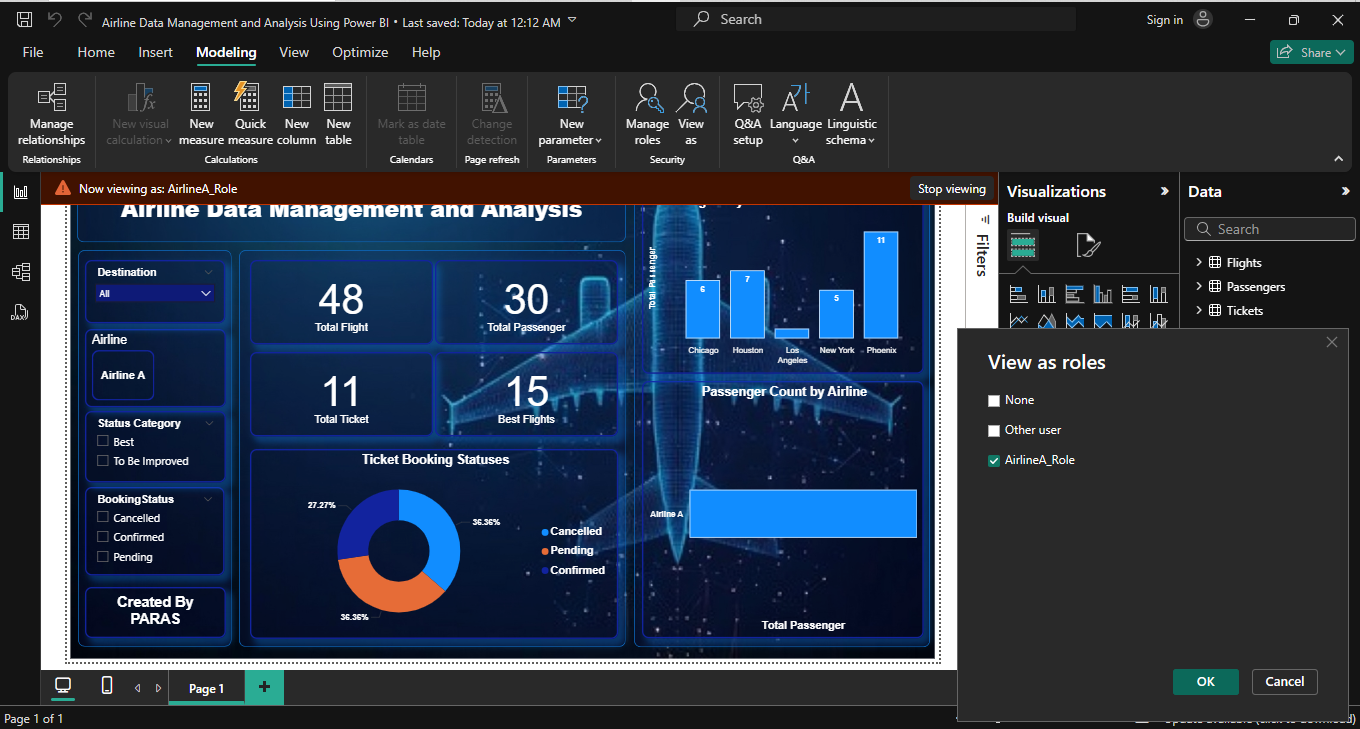

What the dashboard file says about the page in this screenshot:
{"tool":"powerbi","page":{"name":"Page 1","canvas":[1280,720],"ordinal":0},"visuals":[{"type":"image","box":[0,0,1280,720],"z":0},{"type":"shape","box":[15.7,114.3,225.7,582.9],"z":1000},{"type":"shape","box":[15,13.3,806.7,90],"z":2000},{"type":"shape","box":[253.3,115,568.3,583.3],"z":3000},{"type":"shape","box":[833.3,13.3,435,685],"z":4000},{"type":"textbox","box":[26.7,26.7,783.3,61.7],"z":5000},{"type":"clusteredBarChart","title":"Passenger Count by Airline","fields":{"Category":["Flights.Airline"],"Y":["CountNonNull(Passengers.PassengerID)"]},"box":[844.4,307.8,414.4,377.8],"z":6000},{"type":"donutChart","title":"Ticket Booking Statuses","fields":{"Category":["Tickets.BookingStatus"],"Y":["CountNonNull(Tickets.TicketID)"]},"box":[268.6,407.1,541.4,278.6],"z":7000},{"type":"columnChart","title":"Flights by Airline and Destination","fields":{"Category":["Flights.Airline","Flights.Destination"],"Y":["CountNonNull(Passengers.PassengerID)"]},"box":[844.4,26.7,414.4,270],"z":8000},{"type":"card","fields":{"Values":["Count(Flights.FlightID)"]},"box":[268.6,130,268.6,124.3],"z":9000},{"type":"card","fields":{"Values":["CountNonNull(Tickets.TicketID)"]},"box":[268.6,264.3,268.6,124.3],"z":10000},{"type":"card","fields":{"Values":["CountNonNull(Passengers.PassengerID)"]},"box":[541.4,130,268.6,124.3],"z":11000},{"type":"card","fields":{"Values":["CountNonNull(Flights.Status Category)"]},"box":[541.4,264.3,268.6,124.3],"z":12000},{"type":"advancedSlicerVisual","fields":{"Values":["Flights.Airline"]},"box":[26.7,230,206.7,115],"z":13000},{"type":"slicer","fields":{"Values":["Flights.Destination"]},"box":[27.1,130,205.7,92.9],"z":14000},{"type":"slicer","fields":{"Values":["Tickets.BookingStatus"]},"box":[26.7,463.3,205,130],"z":15000},{"type":"textbox","box":[26.7,610,206.7,75],"z":16000},{"type":"slicer","fields":{"Values":["Flights.Status Category"]},"box":[26.7,351.7,206.7,105],"z":17000}]}

Visuals, with their boxes on the page's 1280x720 design canvas (x1, y1, x2, y2). These are canvas units, not pixel positions in the 1360x729 screenshot, which may show the page scaled, cropped or inside an application window:
image: <box>0,0,1280,720</box>
shape: <box>16,114,241,697</box>
shape: <box>15,13,822,103</box>
shape: <box>253,115,822,698</box>
shape: <box>833,13,1268,698</box>
textbox: <box>27,27,810,88</box>
"Passenger Count by Airline" clusteredBarChart: <box>844,308,1259,686</box>
"Ticket Booking Statuses" donutChart: <box>269,407,810,686</box>
"Flights by Airline and Destination" columnChart: <box>844,27,1259,297</box>
card - Count(Flights.FlightID): <box>269,130,537,254</box>
card - CountNonNull(Tickets.TicketID): <box>269,264,537,389</box>
card - CountNonNull(Passengers.PassengerID): <box>541,130,810,254</box>
card - CountNonNull(Flights.Status Category): <box>541,264,810,389</box>
advancedSlicerVisual - Flights.Airline: <box>27,230,233,345</box>
slicer - Flights.Destination: <box>27,130,233,223</box>
slicer - Tickets.BookingStatus: <box>27,463,232,593</box>
textbox: <box>27,610,233,685</box>
slicer - Flights.Status Category: <box>27,352,233,457</box>
